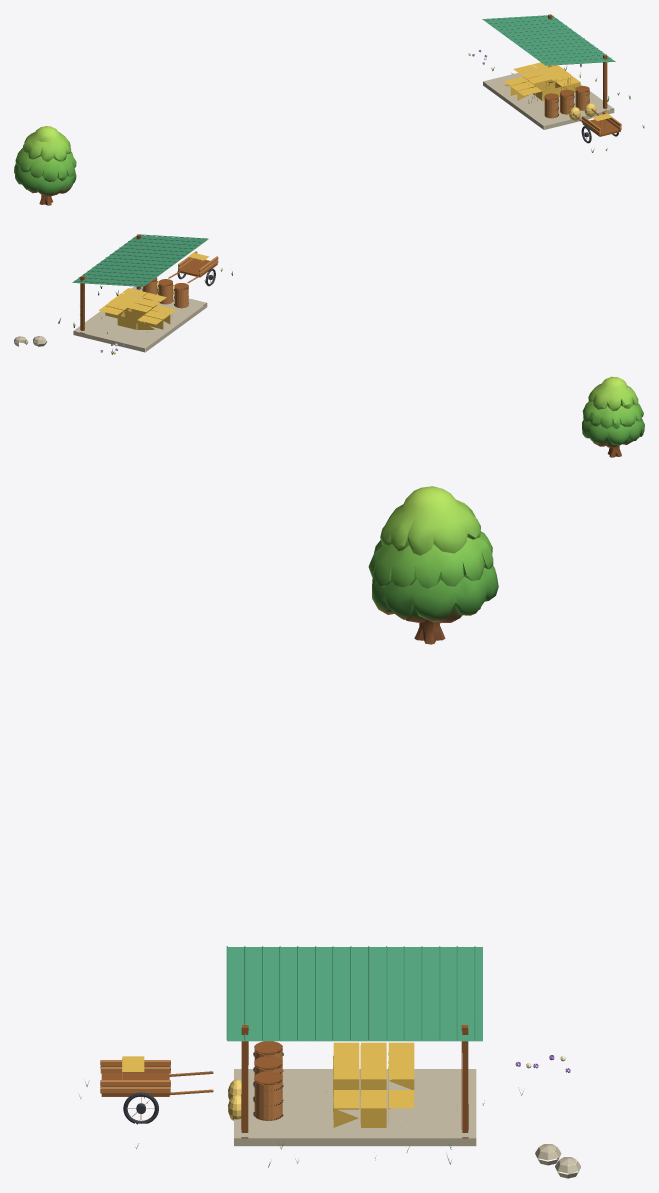
File: Ranch.glb
3 views of the same model, one above another, from view 1: azimuth 30°, elevation 25°; view 2: azimuth 150°, elevation 25°; view 3: azimuth 270°, elevation 25° (orthographic). The views are drawn at different scales.
Parts seen in each view (by area): view 1: SHED • Sage standing seam roof, TREES • round 1, SHED • Foundation limestone, SHED • Golden hay, SHED • Roof flashing, SHED • Oiled oak, SHED • Cedar board 1, SHED • Straw tips; view 2: SHED • Sage standing seam roof, TREES • round 1, SHED • Foundation limestone, SHED • Golden hay, SHED • Roof flashing, SHED • Oiled oak, SHED • Cedar board 1; view 3: SHED • Sage standing seam roof, TREES • round 1, SHED • Foundation limestone, SHED • Golden hay, SHED • Oiled oak, SHED • Roof flashing, SHED • Cedar board 3, SHED • Cedar board 1.
Boxes of the visible parts, left/top/right/bottom form: SHED • Sage standing seam roof: left=482, top=15, right=614, bottom=65; TREES • round 1: left=14, top=126, right=76, bottom=205; SHED • Foundation limestone: left=483, top=65, right=614, bottom=129; SHED • Golden hay: left=504, top=62, right=612, bottom=120; SHED • Roof flashing: left=484, top=15, right=615, bottom=65; SHED • Oiled oak: left=544, top=14, right=620, bottom=140; SHED • Cedar board 1: left=544, top=90, right=589, bottom=118; SHED • Straw tips: left=527, top=78, right=607, bottom=126; SHED • Sage standing seam roof: left=72, top=235, right=207, bottom=286; TREES • round 1: left=582, top=376, right=644, bottom=457; SHED • Foundation limestone: left=14, top=286, right=207, bottom=352; SHED • Golden hay: left=98, top=252, right=209, bottom=329; SHED • Roof flashing: left=74, top=234, right=208, bottom=285; SHED • Oiled oak: left=80, top=234, right=217, bottom=333; SHED • Cedar board 1: left=143, top=279, right=188, bottom=308; SHED • Sage standing seam roof: left=227, top=947, right=482, bottom=1041; TREES • round 1: left=368, top=486, right=498, bottom=644; SHED • Foundation limestone: left=234, top=1069, right=580, bottom=1178; SHED • Golden hay: left=122, top=1042, right=414, bottom=1127; SHED • Oiled oak: left=101, top=1025, right=468, bottom=1138; SHED • Roof flashing: left=226, top=946, right=475, bottom=1040; SHED • Cedar board 3: left=100, top=1060, right=170, bottom=1093; SHED • Cedar board 1: left=254, top=1048, right=282, bottom=1120.
Size of the model in its own units: 34.1 by 4.25 by 12.8.
